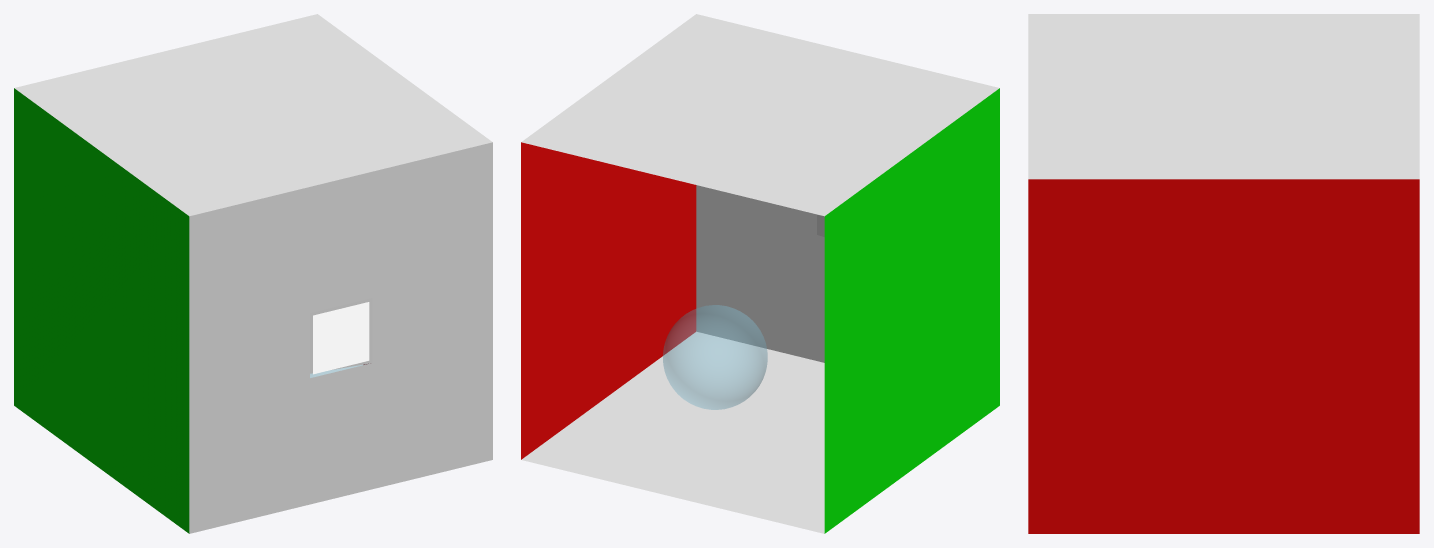
Rendered from ajar_caustic.glb.
3 views of the same model, side by side, from view 1: azimuth 30°, elevation 25°; view 2: azimuth 150°, elevation 25°; view 3: azimuth 270°, elevation 25° (orthographic). The views are drawn at different scales.
Visible parts, largest first — view 1: Back Ajar, Right, Top, Back Ajar Light; view 2: Right, Top, Left, Bottom, Back Ajar, Icosphere; view 3: Left, Top.
Boxes of the visible parts, x1,y1,x2,y2 form: Back Ajar: (189,142,492,533); Right: (14,88,189,533); Top: (14,14,492,216); Back Ajar Light: (313,302,369,374); Right: (824,88,999,533); Top: (521,14,999,216); Left: (521,142,696,459); Bottom: (521,331,824,533); Back Ajar: (696,185,824,362); Icosphere: (663,305,767,409); Left: (1028,179,1419,533); Top: (1028,14,1419,179).
Bounding box in the file's own units: 2 × 2 × 2.
